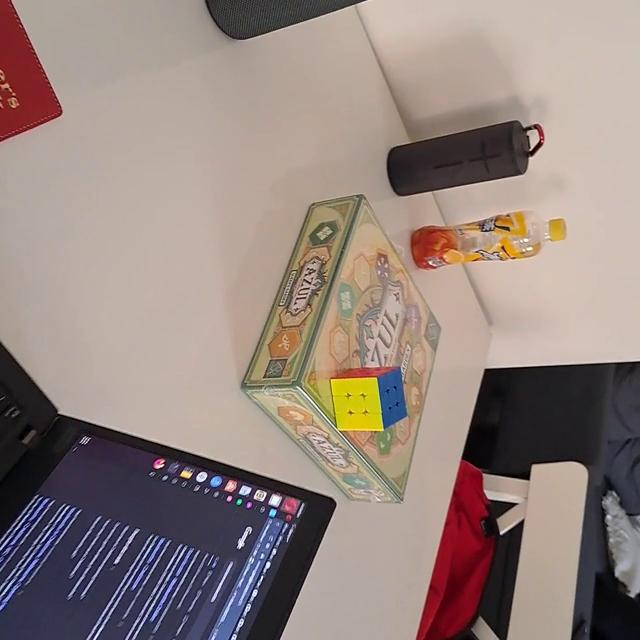rubix_cube: (328, 363, 411, 435)
